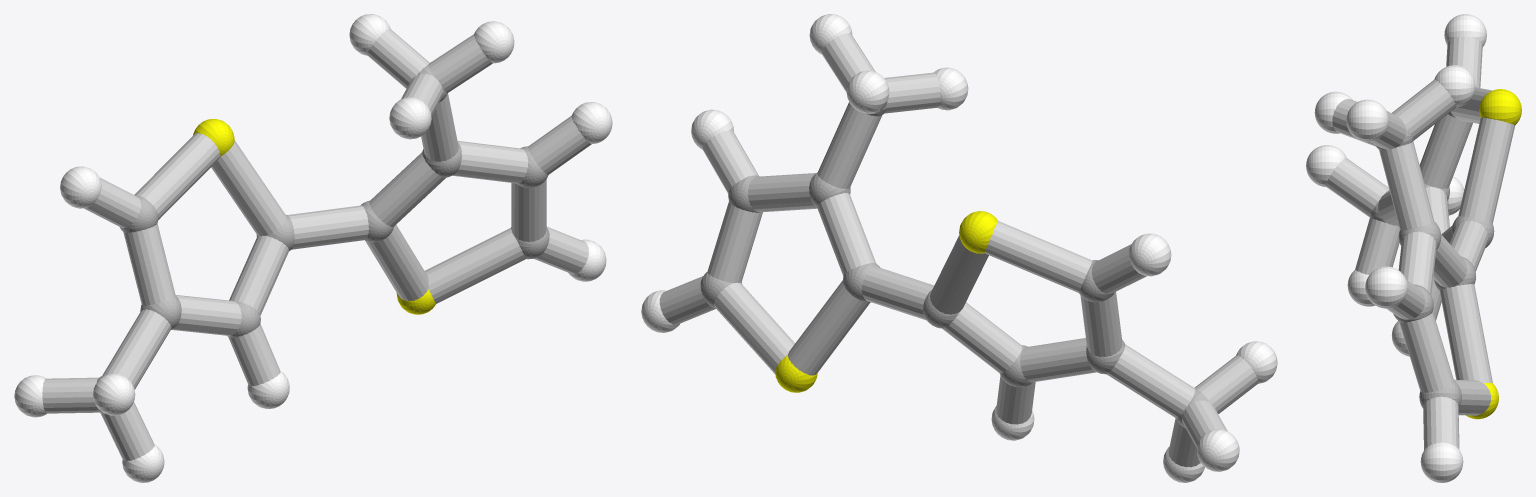
File: Methylthiophene_Phi_20_Theta_40_Methylthiophene.glb
3 renders of one model, left to right at view 1: azimuth 30°, elevation 25°; view 2: azimuth 150°, elevation 25°; view 3: azimuth 270°, elevation 25°, orthographic.
Parts seen in each view (by area): view 1: grp7965, grp3621, grp1, grp7241; view 2: grp7965, grp3621, grp1, grp7241; view 3: grp7965, grp3621, grp1, grp7241.
Part boxes in pixels (x1=…): grp7965: x1=42, y1=29, x2=591, y2=460; grp3621: x1=14, y1=14, x2=612, y2=482; grp1: x1=97, y1=64, x2=549, y2=413; grp7241: x1=193, y1=119, x2=435, y2=314; grp7965: x1=659, y1=33, x2=1258, y2=467; grp3621: x1=641, y1=14, x2=1277, y2=482; grp1: x1=700, y1=103, x2=1209, y2=427; grp7241: x1=775, y1=211, x2=997, y2=392; grp7965: x1=1326, y1=36, x2=1515, y2=450; grp3621: x1=1306, y1=14, x2=1486, y2=482; grp1: x1=1370, y1=112, x2=1494, y2=408; grp7241: x1=1466, y1=89, x2=1521, y2=419.
Bounding box in the file's own units: 9.58 × 5.83 × 3.04.
